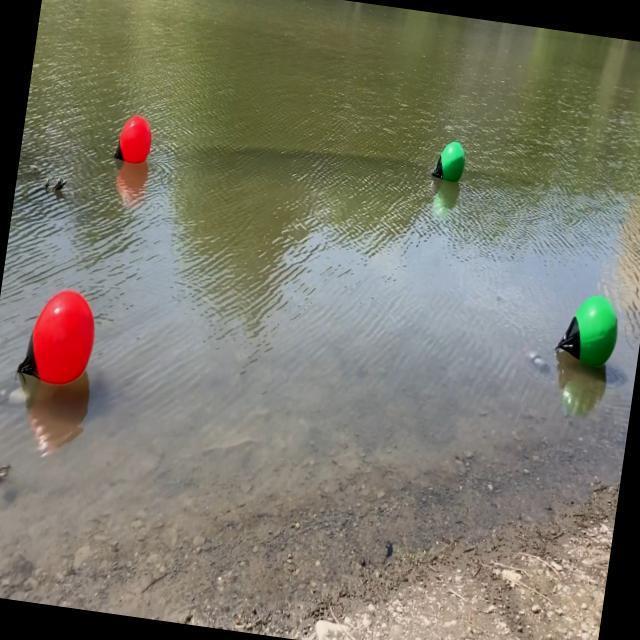buoy: (15, 282, 100, 401), (552, 282, 624, 376), (110, 106, 159, 176), (428, 130, 472, 192)
